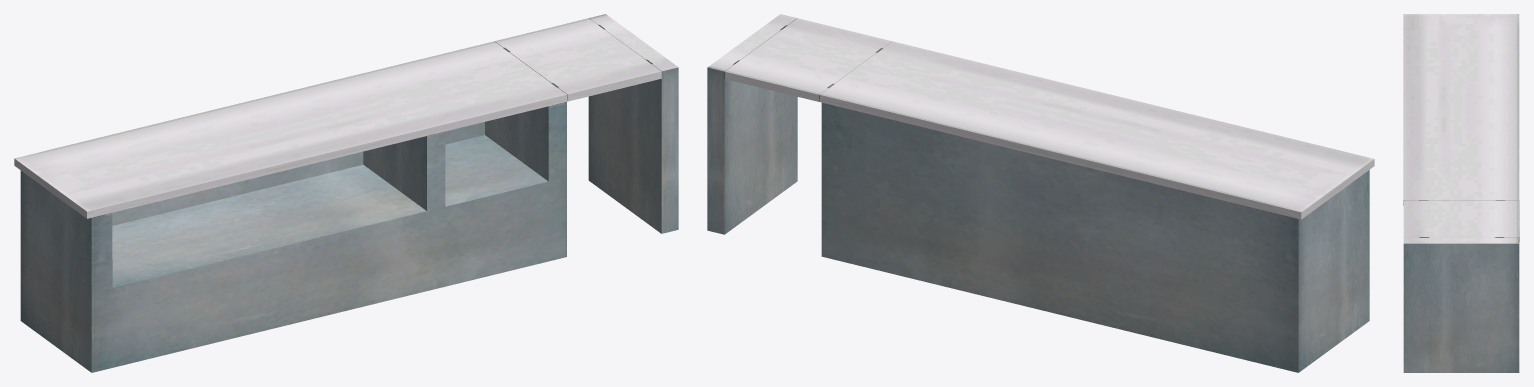
The model's file is frn_bar_piece_straight_s2_l1.fbx.
3 views of the same model, side by side, from view 1: azimuth 30°, elevation 25°; view 2: azimuth 150°, elevation 25°; view 3: azimuth 270°, elevation 25° (orthographic). The views are drawn at different scales.
Visible parts, largest first — view 1: mesh_node; view 2: mesh_node; view 3: mesh_node.
Part boxes in pixels (x1,y1,x2,y2): mesh_node: [14, 14, 678, 372]; mesh_node: [707, 14, 1374, 372]; mesh_node: [1403, 14, 1519, 372].
Size of the model in its own units: 4.38 by 1.15 by 0.9349.
